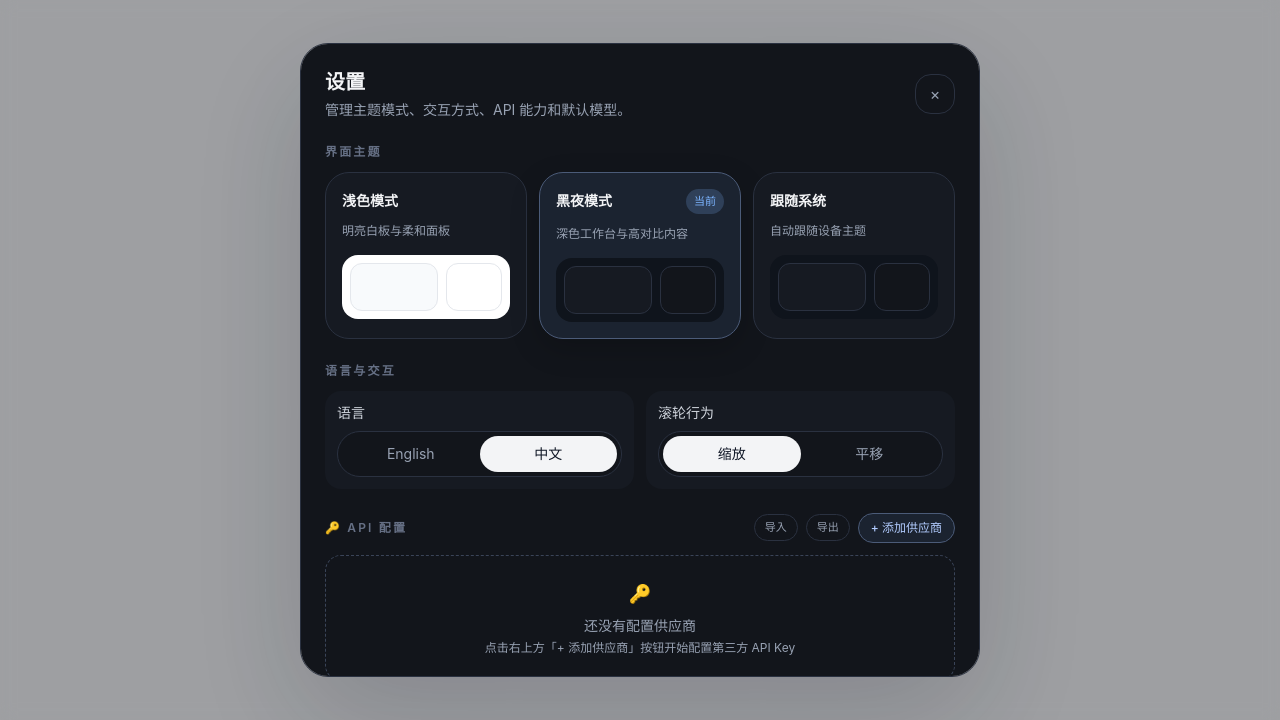
Test: CanvasSettings provider configuration UI › opens a CC Switch style provider setup flow with advanced model config fields
Click the button "+ 添加供应商" at (906, 528), box 858,513 -> 955,543
(page scrolled)
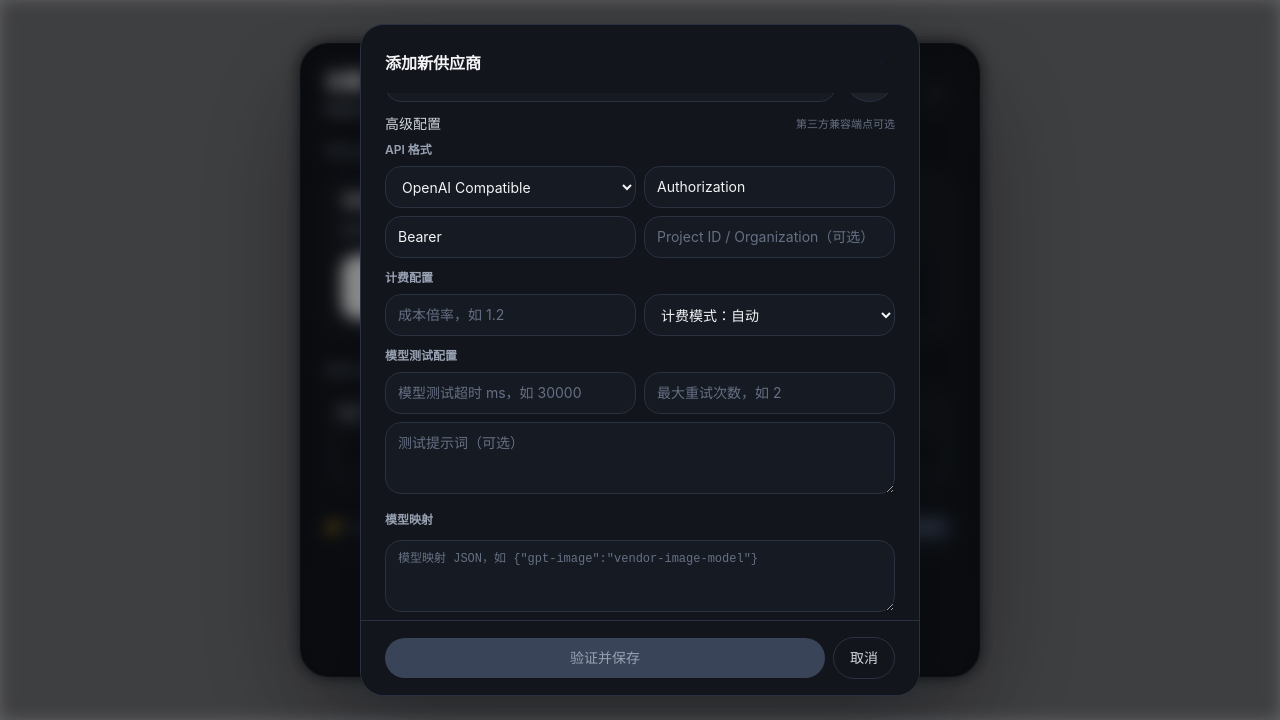
expect the text "模型映射" is shown: met, box 385,512 -> 433,527
expect the text "模型测试配置" is shown: met, box 385,348 -> 457,363
